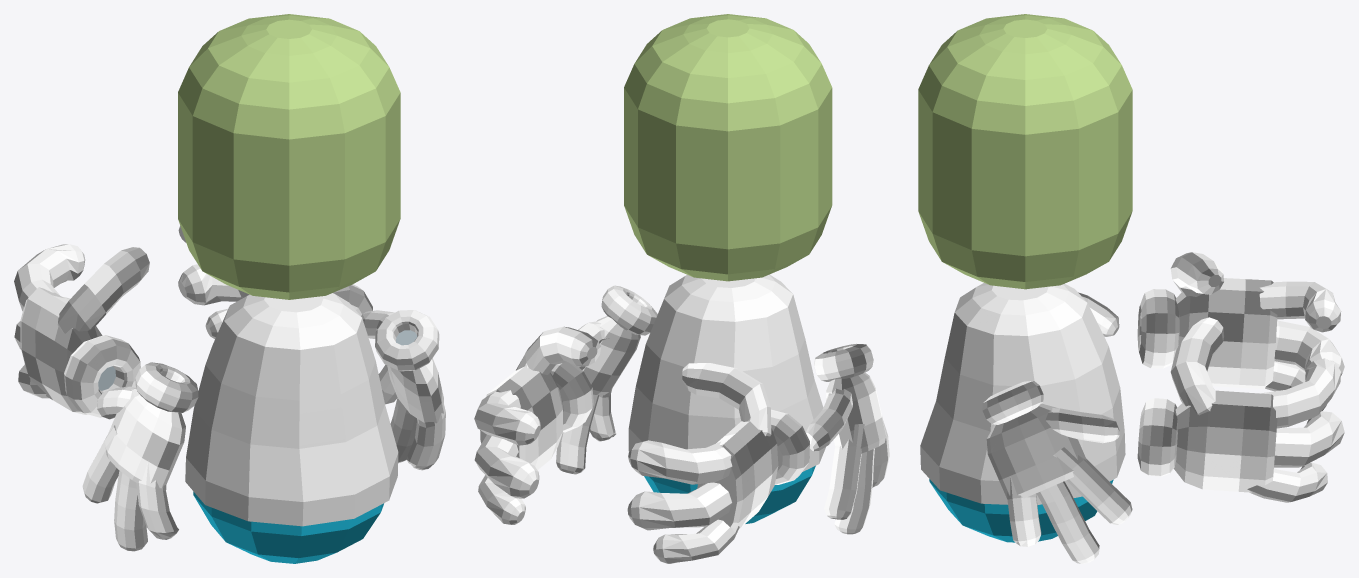
File: char-2.fbx
3 views of the same model, side by side, from view 1: azimuth 30°, elevation 25°; view 2: azimuth 150°, elevation 25°; view 3: azimuth 270°, elevation 25° (orthographic). The views are drawn at different scales.
Parts seen in each view (by area): view 1: Head, Torso, LeftHandGrab, LeftHandIdle, RightHandIdle, RightHandGrab; view 2: Head, Torso, LeftHandGrab, RightHandGrab, LeftHandIdle, RightHandIdle; view 3: Head, Torso, RightHandGrab, LeftHandGrab, RightHandIdle, LeftHandIdle.
Part boxes in pixels (left/top/right/bottom): Head: left=178, top=14, right=400, bottom=299; Torso: left=185, top=293, right=398, bottom=563; LeftHandGrab: left=14, top=244, right=149, bottom=417; LeftHandIdle: left=82, top=362, right=198, bottom=551; RightHandIdle: left=361, top=310, right=445, bottom=470; RightHandGrab: left=178, top=226, right=372, bottom=339; Head: left=624, top=14, right=832, bottom=281; Torso: left=628, top=274, right=825, bottom=523; LeftHandGrab: left=627, top=363, right=809, bottom=563; RightHandGrab: left=474, top=326, right=601, bottom=524; LeftHandIdle: left=805, top=344, right=889, bottom=534; RightHandIdle: left=556, top=285, right=657, bottom=474; Head: left=918, top=14, right=1132, bottom=289; Torso: left=920, top=283, right=1125, bottom=542; RightHandGrab: left=1137, top=317, right=1344, bottom=502; LeftHandGrab: left=1137, top=252, right=1344, bottom=411; RightHandIdle: left=982, top=381, right=1132, bottom=563; LeftHandIdle: left=1078, top=292, right=1119, bottom=336.
Bounding box in the file's own units: 58.34 × 89.02 × 68.55.
